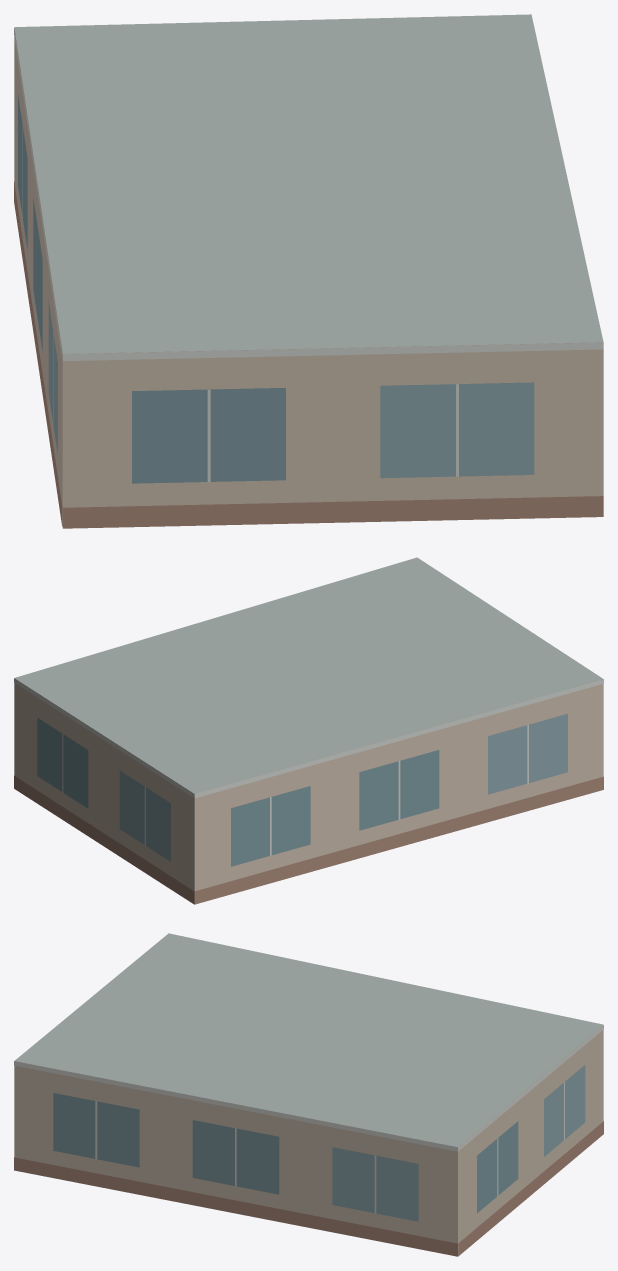
File: survey-upis-32636698.glb
3 views of the same model, one above another, from view 1: azimuth 30°, elevation 25°; view 2: azimuth 150°, elevation 25°; view 3: azimuth 270°, elevation 25° (orthographic). The views are drawn at different scales.
Parts seen in each view (by area): view 1: survey-upis-32636698.tmp; view 2: survey-upis-32636698.tmp; view 3: survey-upis-32636698.tmp.
Boxes of the visible parts, box(x1,y1,x2,y2) form: survey-upis-32636698.tmp: box(14, 14, 603, 528); survey-upis-32636698.tmp: box(14, 557, 603, 904); survey-upis-32636698.tmp: box(14, 933, 603, 1256).
Size of the model in its own units: 12.8 by 3.05 by 14.91.
